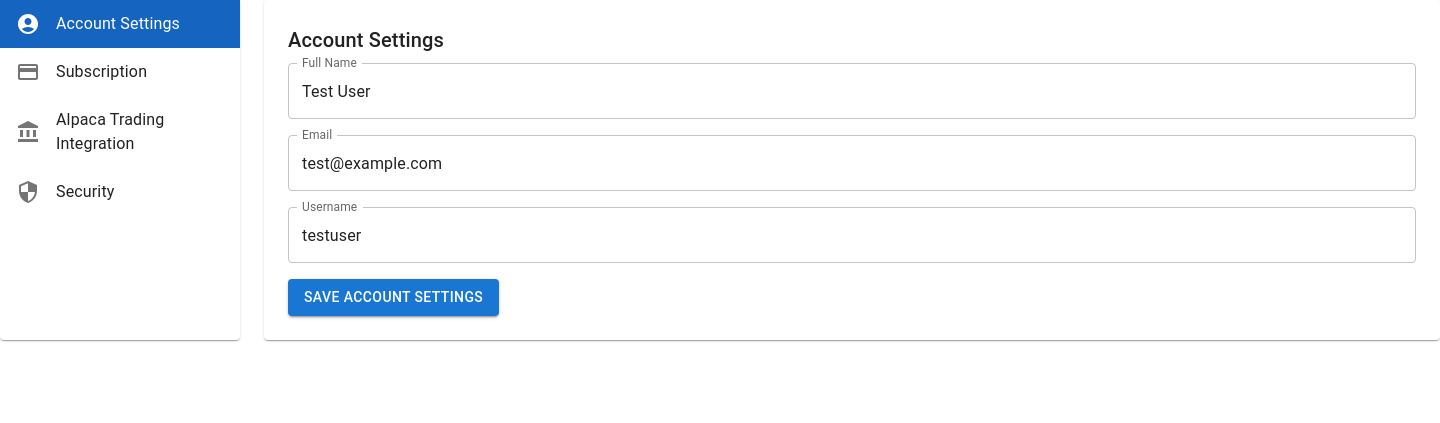
Test: Settings Component › Account Settings Section › displays error message when save fails
Click the button "Save Account Settings": [394, 297] box [288,279,499,316]
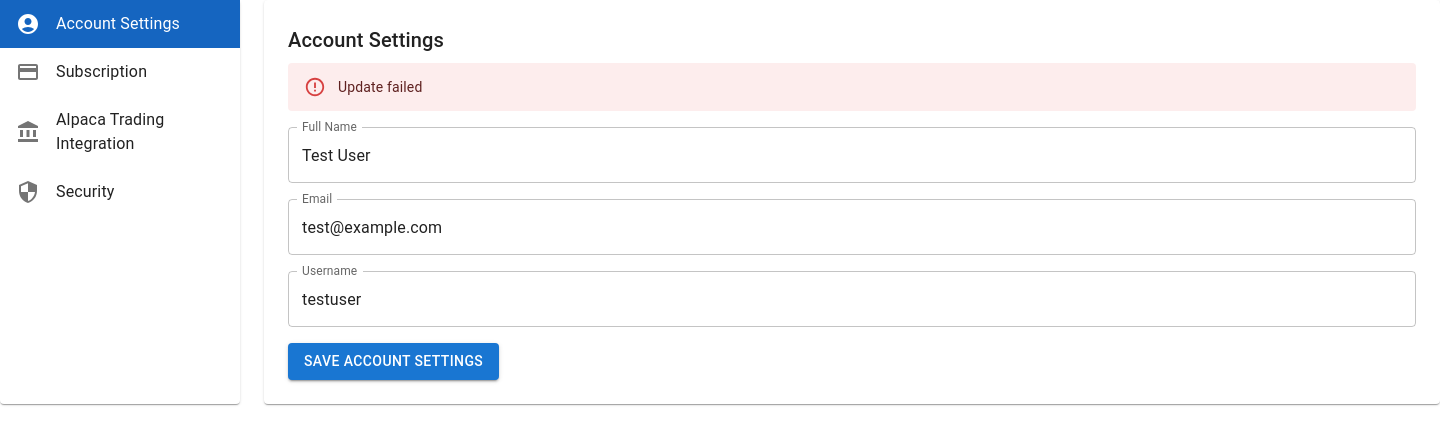
Result: the text "Update failed" is shown at [338,79,422,95]
